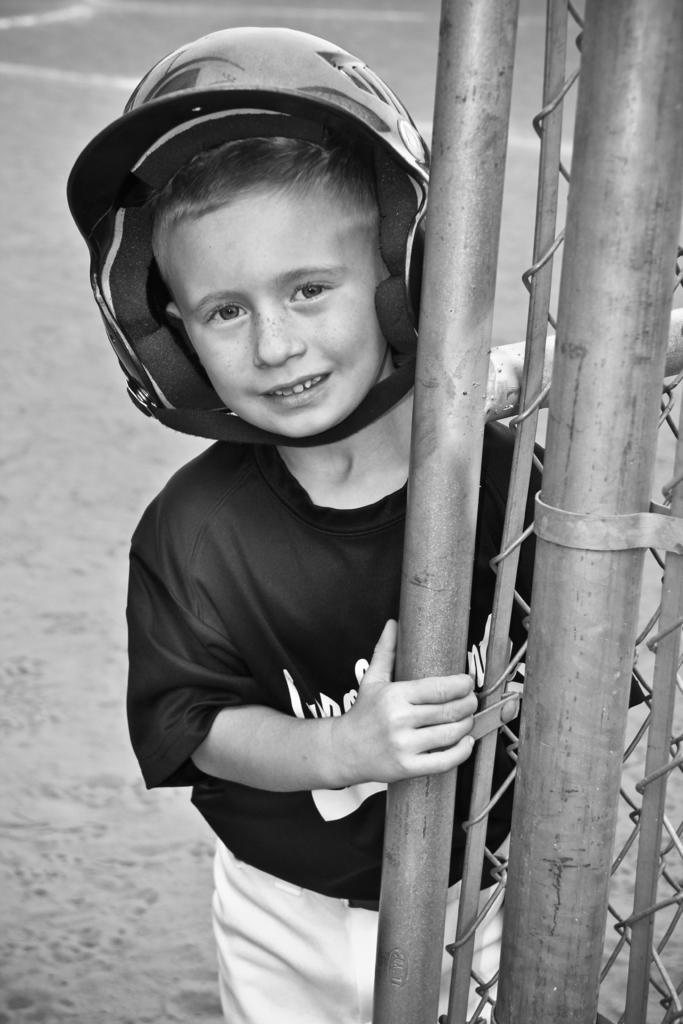helmet: (66, 26, 445, 436)
